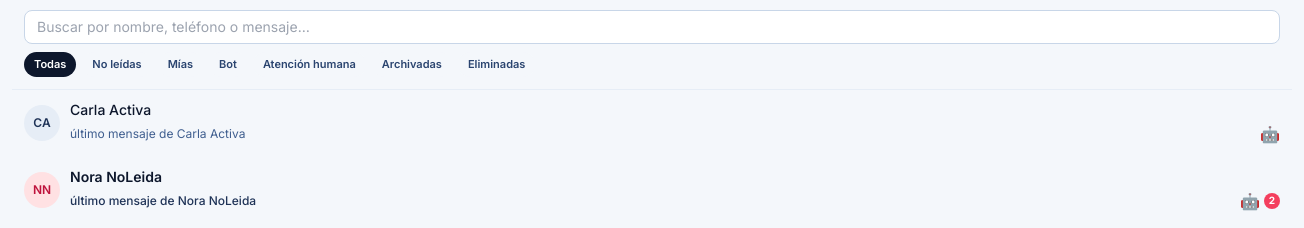
Test case: ConversationList — filtros › chip «No leídas» deja solo las de unreadForSeller > 0
The width and height of the screenshot is (1304, 228).
Click the button "No leídas". click: (117, 64)
box: [82,52,152,76]
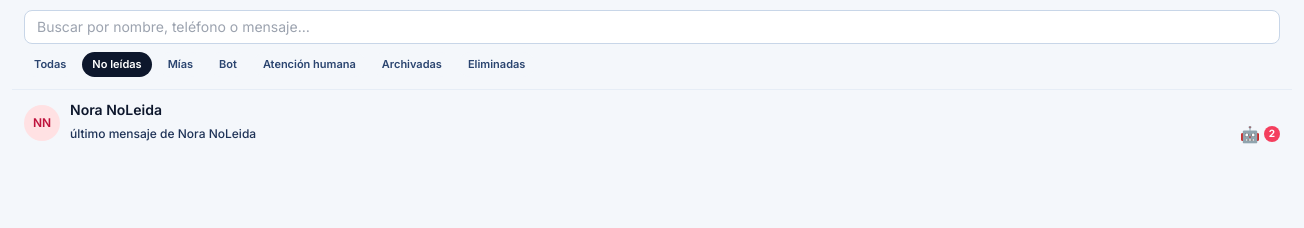
Expected: the text "Nora NoLeida" is shown, [70,100,162,120]
Expected: the button "Carla Activa" is gone
